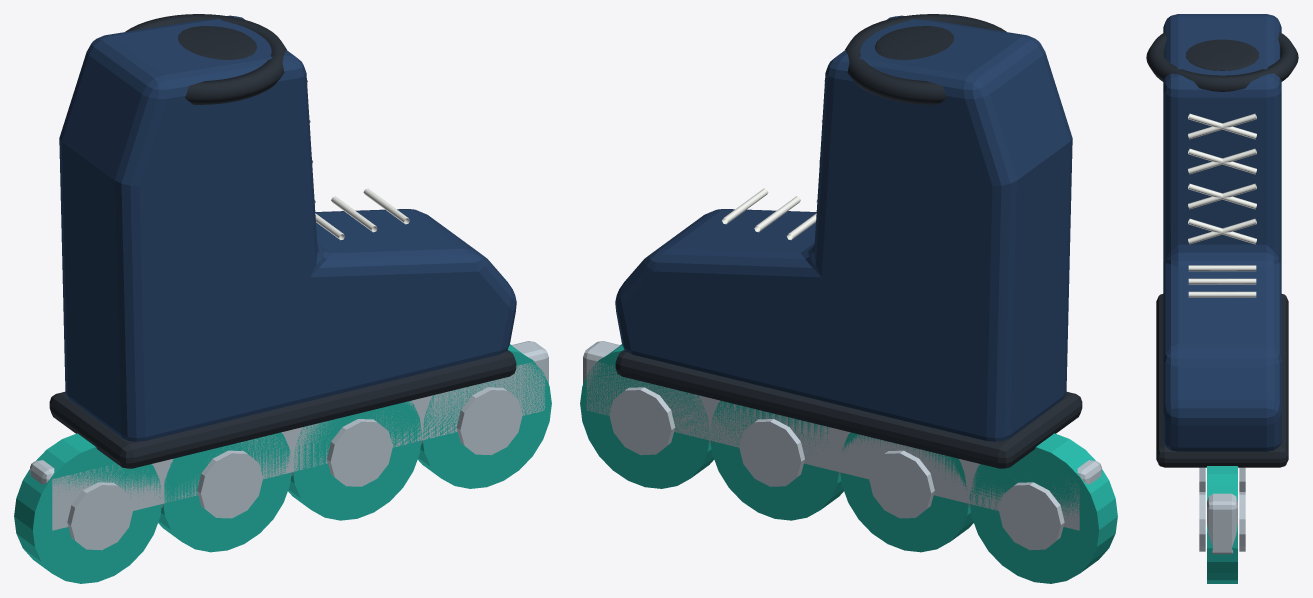
Rendered from rollerblade_racing.glb.
3 renders of one model, left to right at view 1: azimuth 30°, elevation 25°; view 2: azimuth 150°, elevation 25°; view 3: azimuth 270°, elevation 25°, orthographic. The views are drawn at different scales.
Visible parts, largest first — view 1: rollerblade_racing; view 2: rollerblade_racing; view 3: rollerblade_racing.
Boxes of the visible parts, x1,y1,x2,y2 form: rollerblade_racing: [14, 14, 551, 583]; rollerblade_racing: [580, 14, 1117, 583]; rollerblade_racing: [1146, 14, 1298, 583].
Size of the model in its own units: 0.4 by 0.374 by 0.122.
